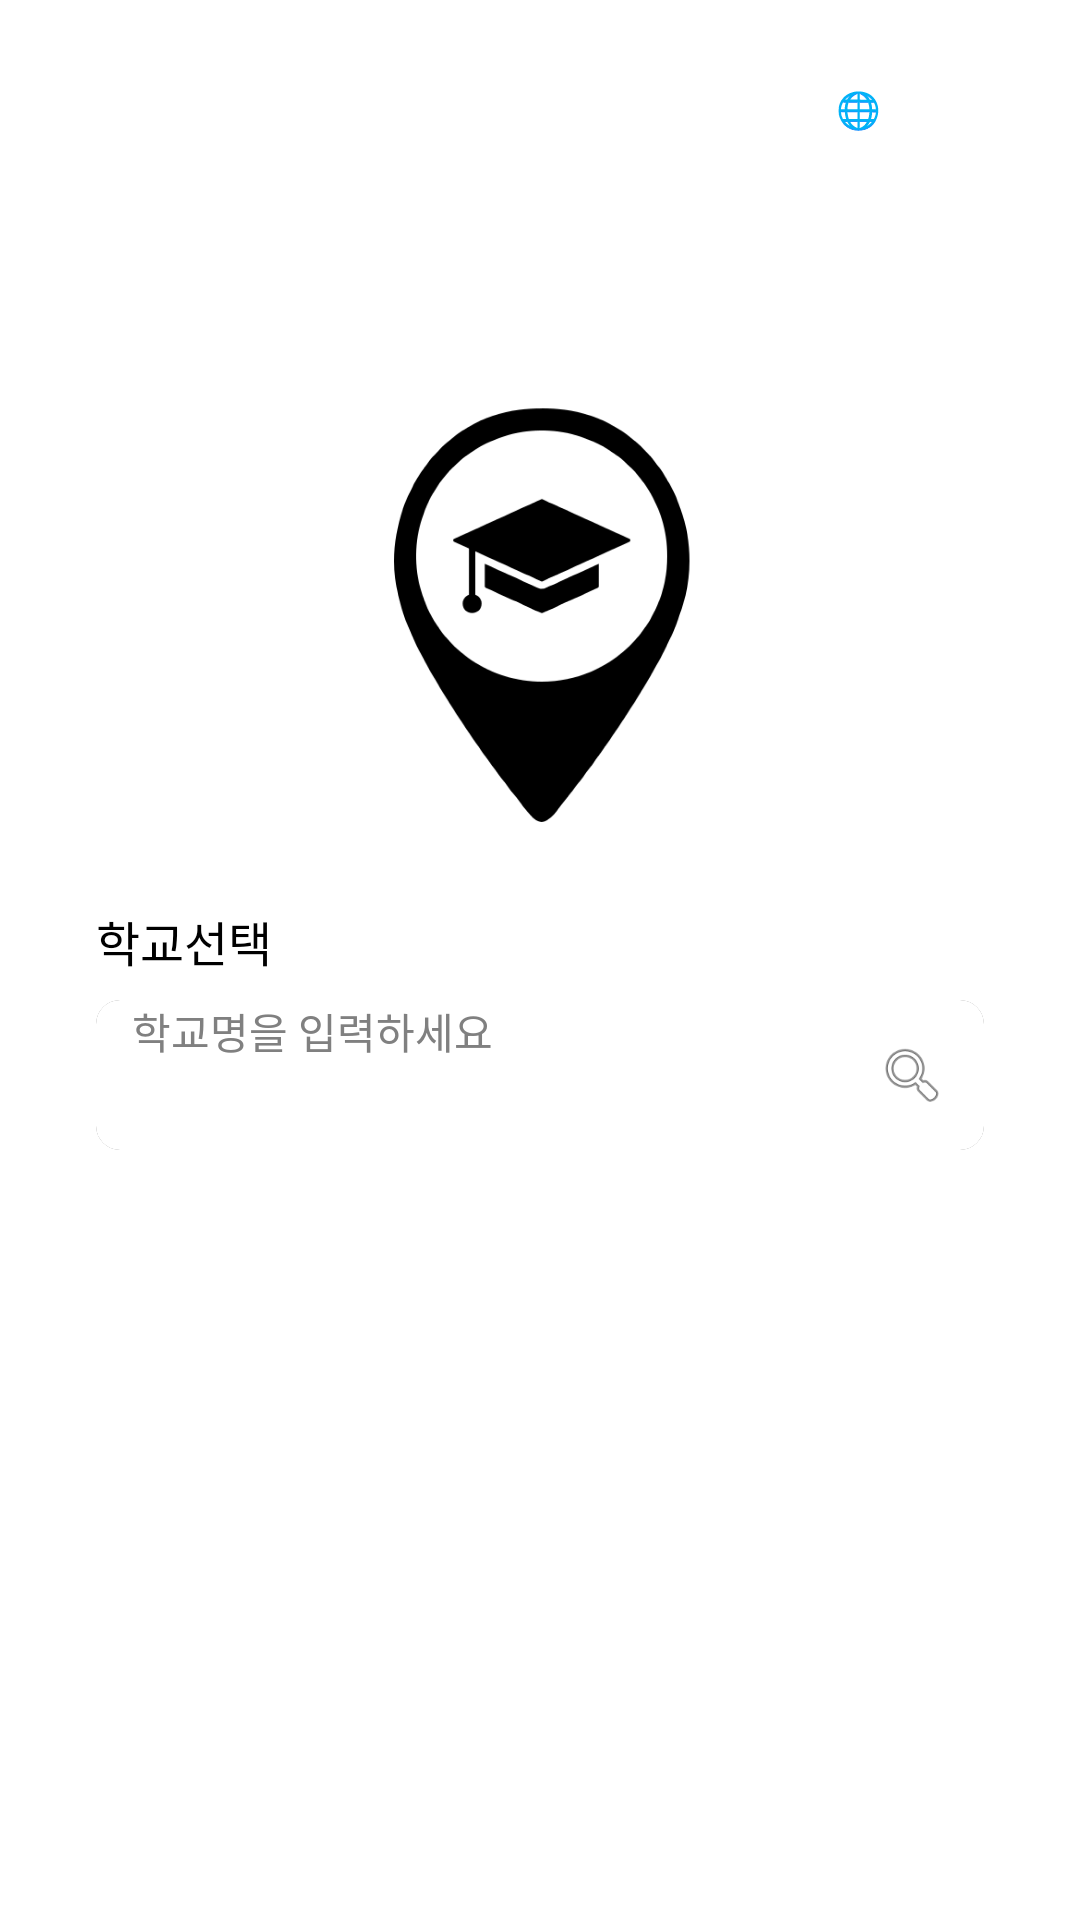

Icon click points for this 1080w x 1920h phone screenshot, format (x=x, y=y):
search: (x=912, y=1075)
